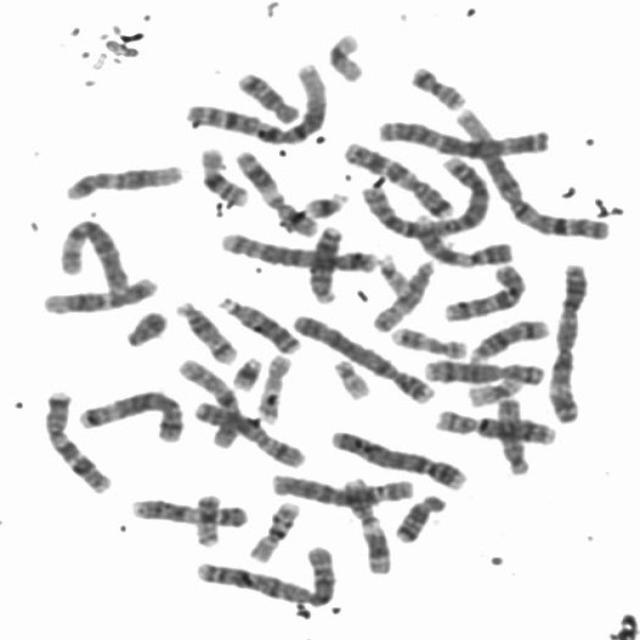A1: (447, 100, 616, 243), (181, 56, 330, 146)
A2: (356, 151, 490, 240), (189, 539, 340, 607)
A3: (542, 256, 594, 426), (373, 114, 556, 159)
B4: (287, 308, 436, 405), (325, 424, 469, 492)
B5: (215, 225, 382, 274), (72, 383, 187, 444)
C10: (171, 351, 247, 450), (437, 259, 530, 324)
C11: (229, 144, 322, 239), (338, 472, 394, 576)
C12: (36, 270, 162, 316), (60, 157, 187, 202)
C6: (52, 212, 132, 295), (266, 466, 419, 508)
C7: (338, 136, 458, 220), (38, 384, 114, 495)
C8: (430, 403, 560, 446), (419, 352, 549, 387)
C9: (408, 208, 515, 269), (126, 492, 250, 528)
D13: (211, 289, 304, 356), (303, 220, 346, 306)
D14: (169, 295, 239, 365), (464, 313, 552, 364)
D15: (366, 255, 437, 333), (492, 392, 533, 476)
E16: (244, 494, 302, 564), (193, 141, 251, 208)
E17: (385, 320, 470, 360), (251, 348, 295, 425)
E18: (231, 65, 302, 125), (390, 488, 449, 545)
F19: (322, 26, 368, 84), (462, 371, 527, 408)
F20: (403, 60, 469, 112), (190, 488, 224, 549)
G21: (300, 186, 351, 220), (226, 351, 265, 392)
G22: (327, 354, 374, 402), (374, 248, 413, 298)
X: (186, 395, 306, 470)
Y: (120, 305, 171, 348)
